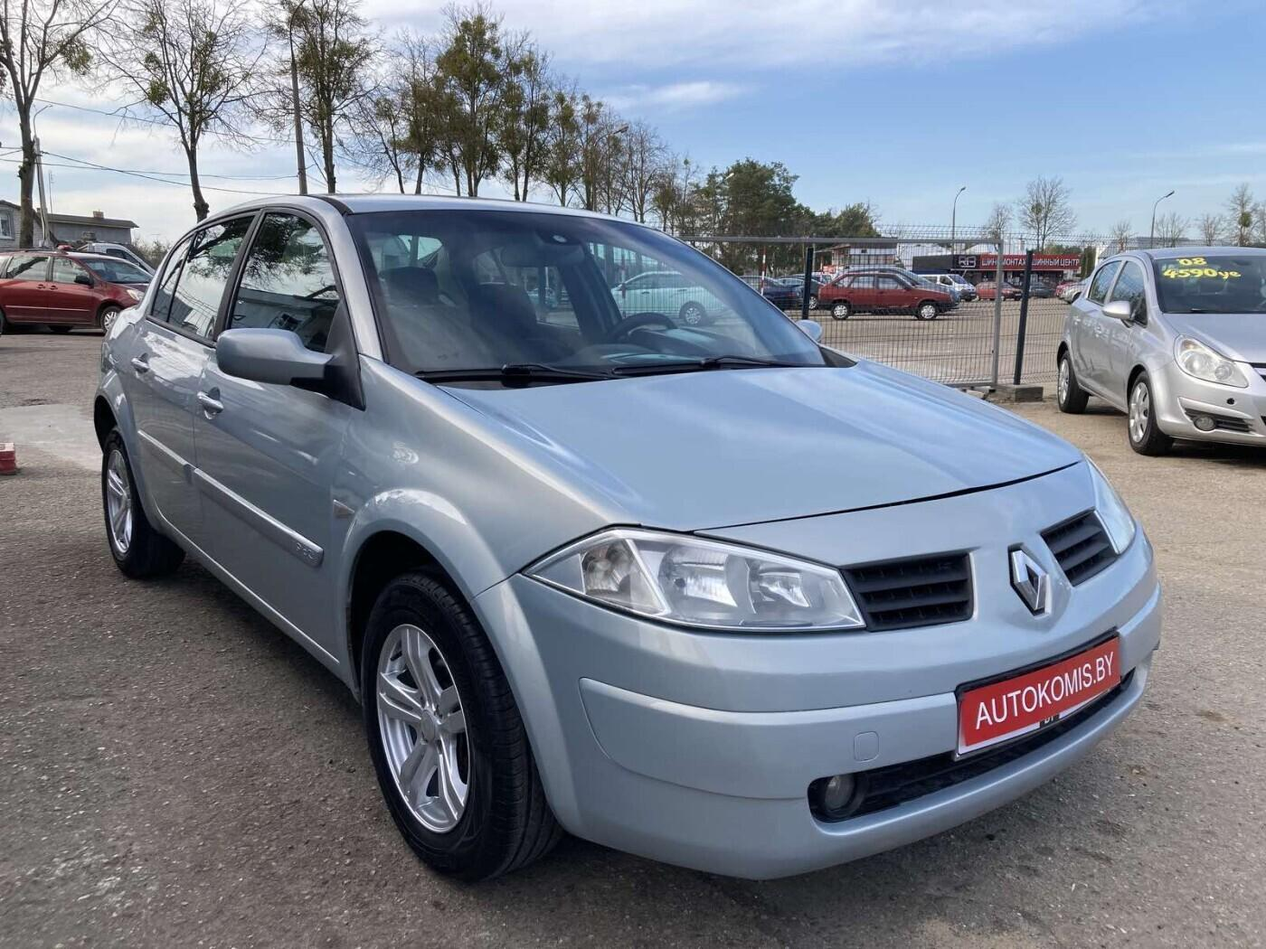Megane_2002-2006: (90, 182, 1168, 901)
